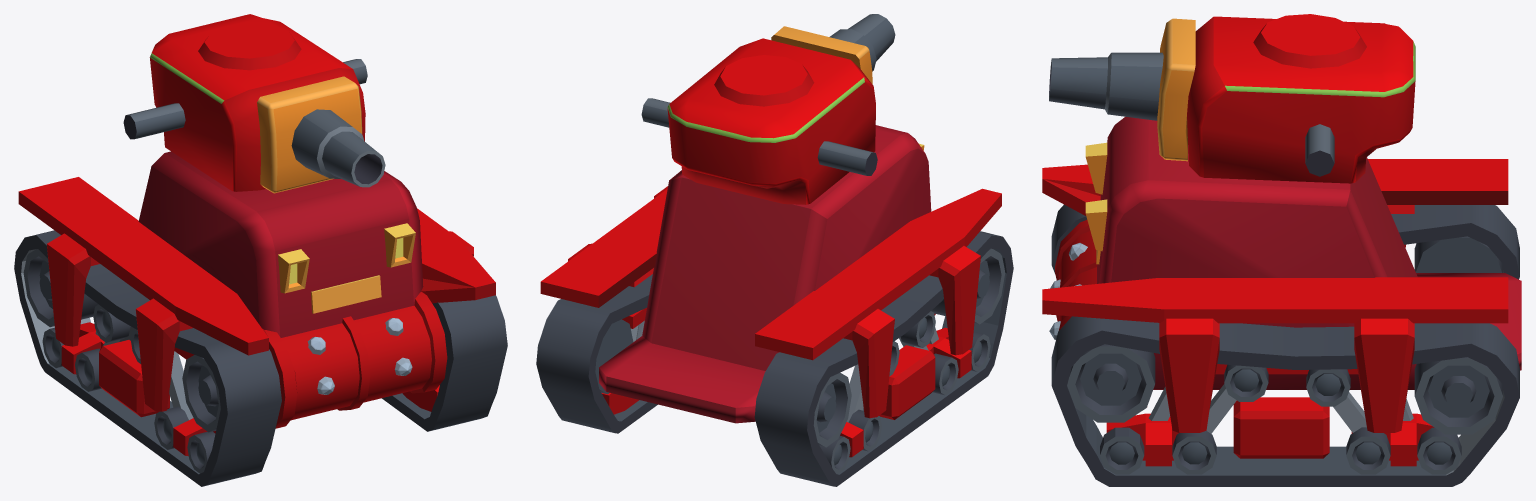
Rendered from Mini_Tank.fbx.
The picture shows the model from 3 angles, left to right: view 1: azimuth 30°, elevation 25°; view 2: azimuth 150°, elevation 25°; view 3: azimuth 270°, elevation 25°; orthographic projection. The views are drawn at different scales.
Parts seen in each view (by area): view 1: Mini_Tank; view 2: Mini_Tank; view 3: Mini_Tank.
Part boxes in pixels (left/top/right/bottom): Mini_Tank: left=14, top=14, right=507, bottom=486; Mini_Tank: left=536, top=14, right=1013, bottom=486; Mini_Tank: left=1042, top=14, right=1521, bottom=486.
Bounding box in the file's own units: 104 × 109 × 125.
